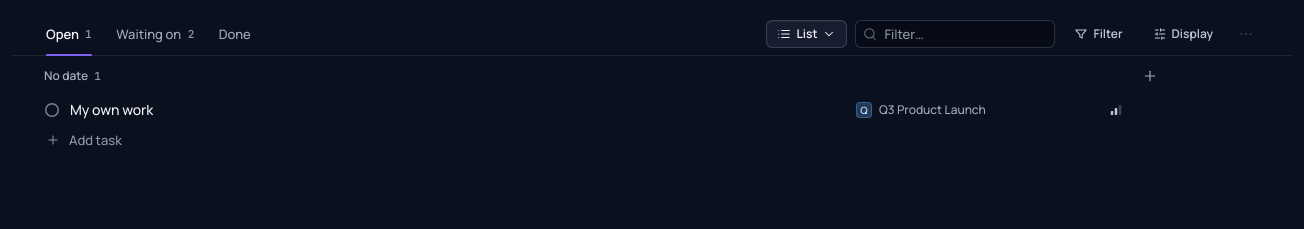
Test: My tasks tabs › Waiting on lists the tasks I created for other people, by person
The image size is (1304, 229).
Click the tab "Waiting on 2" at (155, 34), box left=114, top=12, right=196, bottom=56
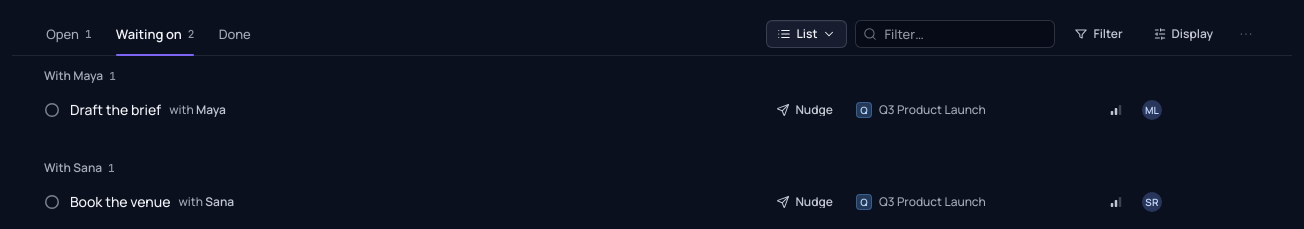
Check: the heading "With Maya 1" is shown, box left=44, top=62, right=140, bottom=90
Check: the heading "With Sana 1" is shown, box left=44, top=154, right=139, bottom=182
Check: the button "Draft the brief" is shown, box left=70, top=100, right=161, bottom=120
Click the button with aria-label "Nudge Maya about “Draft the brief”" at (805, 110), box left=765, top=96, right=844, bottom=124
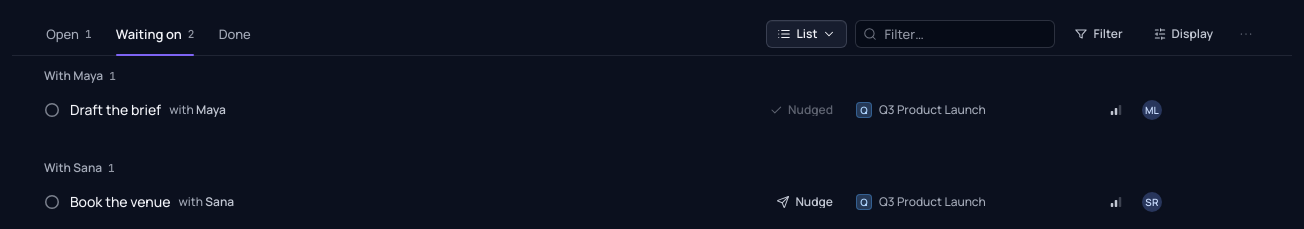
Check: the button with aria-label "Nudged Maya" is disabled, box left=758, top=96, right=844, bottom=124
